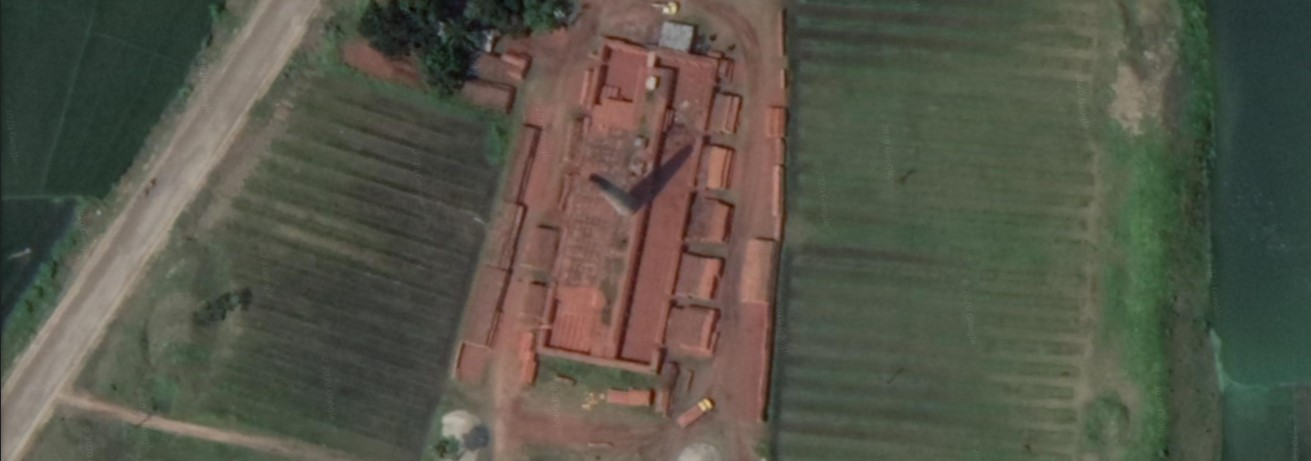kiln: (551, 45, 751, 405)
